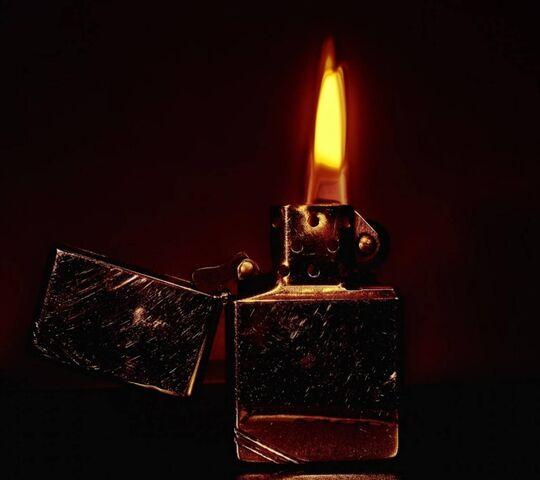Fire: (305, 36, 352, 211)
